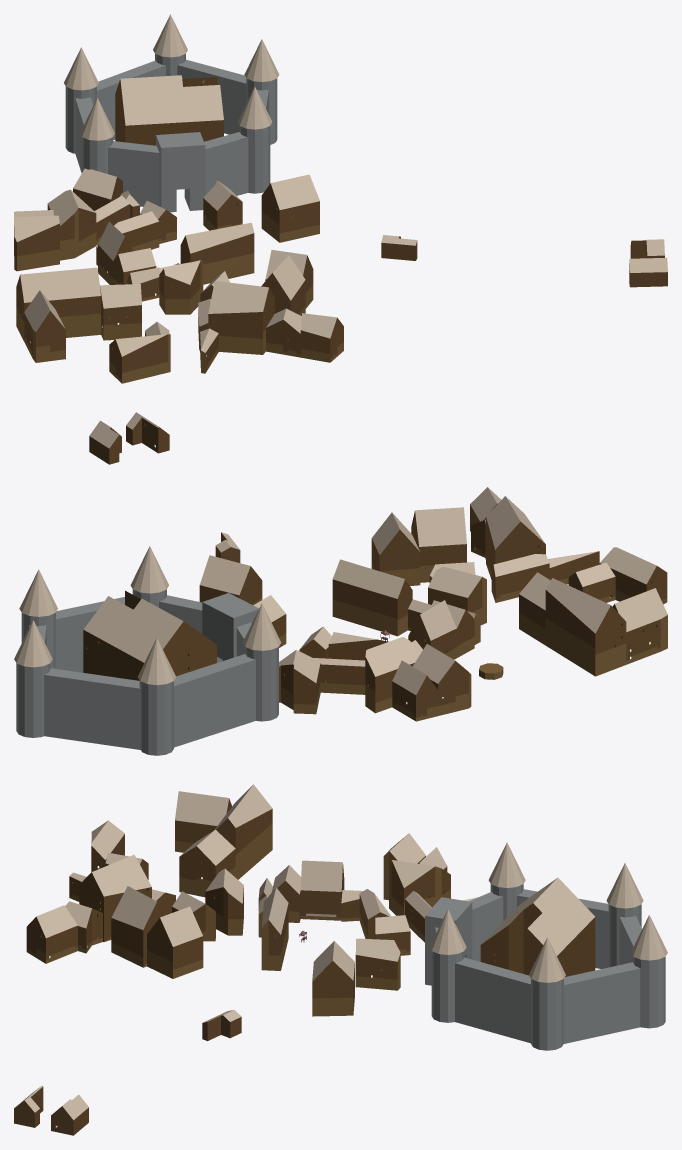
The model's file is Main City Test v1.1.fbx.
3 renders of one model, top to bottom at view 1: azimuth 30°, elevation 25°; view 2: azimuth 150°, elevation 25°; view 3: azimuth 270°, elevation 25°, orthographic. The views are drawn at different scales.
Parts seen in each view (by area): view 1: Buildings, castle; view 2: Buildings, castle; view 3: Buildings, castle.
Part boxes in pixels (<box>): Buildings: <box>14,168,667,383</box>; castle: <box>64,14,279,212</box>; Buildings: <box>89,412,667,721</box>; castle: <box>14,546,281,755</box>; Buildings: <box>14,784,477,1135</box>; castle: <box>425,842,667,1050</box>.
Size of what is drawn, in the model's own units: 32507 by 5436 by 30165.
